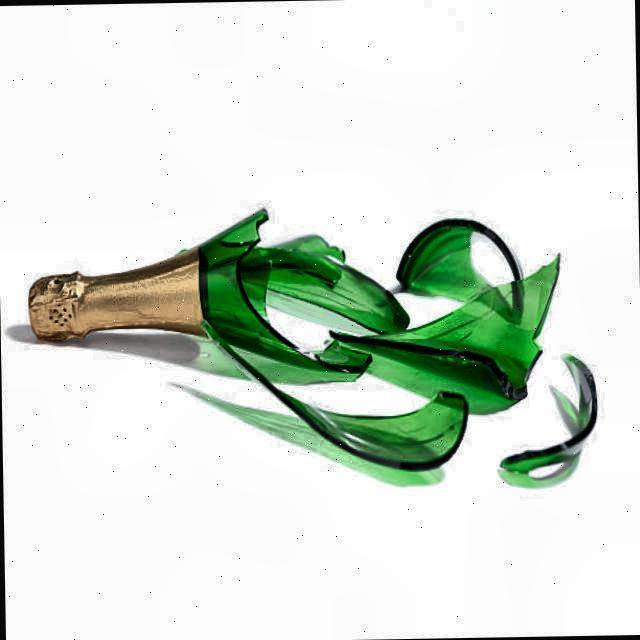glass: (28, 211, 372, 373), (200, 320, 468, 468), (332, 259, 560, 403), (239, 236, 413, 336), (397, 220, 521, 326), (500, 354, 597, 472)
